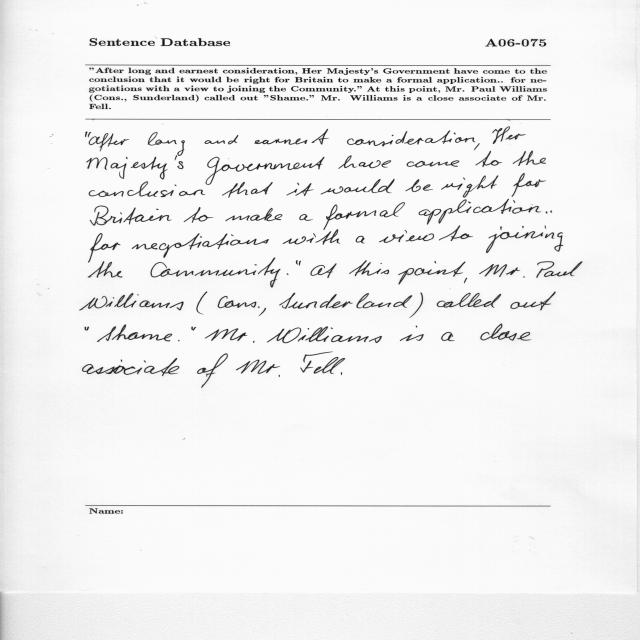word: (151, 258, 281, 288), (132, 233, 269, 258), (206, 157, 325, 185), (419, 199, 541, 225), (87, 155, 184, 180), (324, 202, 405, 230), (347, 130, 476, 147), (280, 293, 413, 309), (486, 226, 563, 253), (267, 326, 382, 343), (89, 182, 206, 198), (79, 293, 184, 310), (83, 358, 180, 376), (90, 206, 172, 226), (398, 261, 466, 285), (97, 324, 172, 342), (441, 175, 498, 198), (255, 129, 330, 145), (321, 179, 395, 194), (197, 353, 228, 388), (301, 352, 345, 374), (437, 293, 501, 308), (89, 233, 121, 262), (283, 229, 340, 245), (148, 132, 185, 156), (480, 324, 532, 341), (88, 132, 129, 152), (222, 182, 273, 198), (512, 173, 546, 197), (511, 292, 556, 310), (537, 261, 583, 278), (205, 328, 255, 343), (236, 360, 280, 377), (338, 155, 391, 169), (226, 208, 283, 221), (379, 230, 434, 243), (480, 264, 526, 278), (349, 260, 389, 276), (492, 127, 526, 144), (89, 261, 123, 278), (439, 226, 473, 241), (218, 296, 260, 308), (513, 151, 546, 166), (184, 207, 214, 223), (476, 151, 502, 167), (310, 263, 337, 278), (407, 161, 460, 168), (405, 179, 433, 192), (409, 292, 423, 318), (400, 326, 424, 341), (287, 183, 314, 196), (205, 135, 239, 144), (197, 292, 208, 315), (441, 332, 455, 341), (299, 214, 313, 221), (356, 236, 365, 243), (259, 308, 266, 316), (474, 144, 480, 151), (296, 260, 301, 266), (192, 327, 197, 331), (85, 327, 89, 331), (464, 278, 467, 283), (86, 132, 88, 138), (550, 210, 552, 213), (546, 212, 548, 214), (287, 273, 289, 275), (341, 373, 342, 376), (178, 340, 180, 341)
